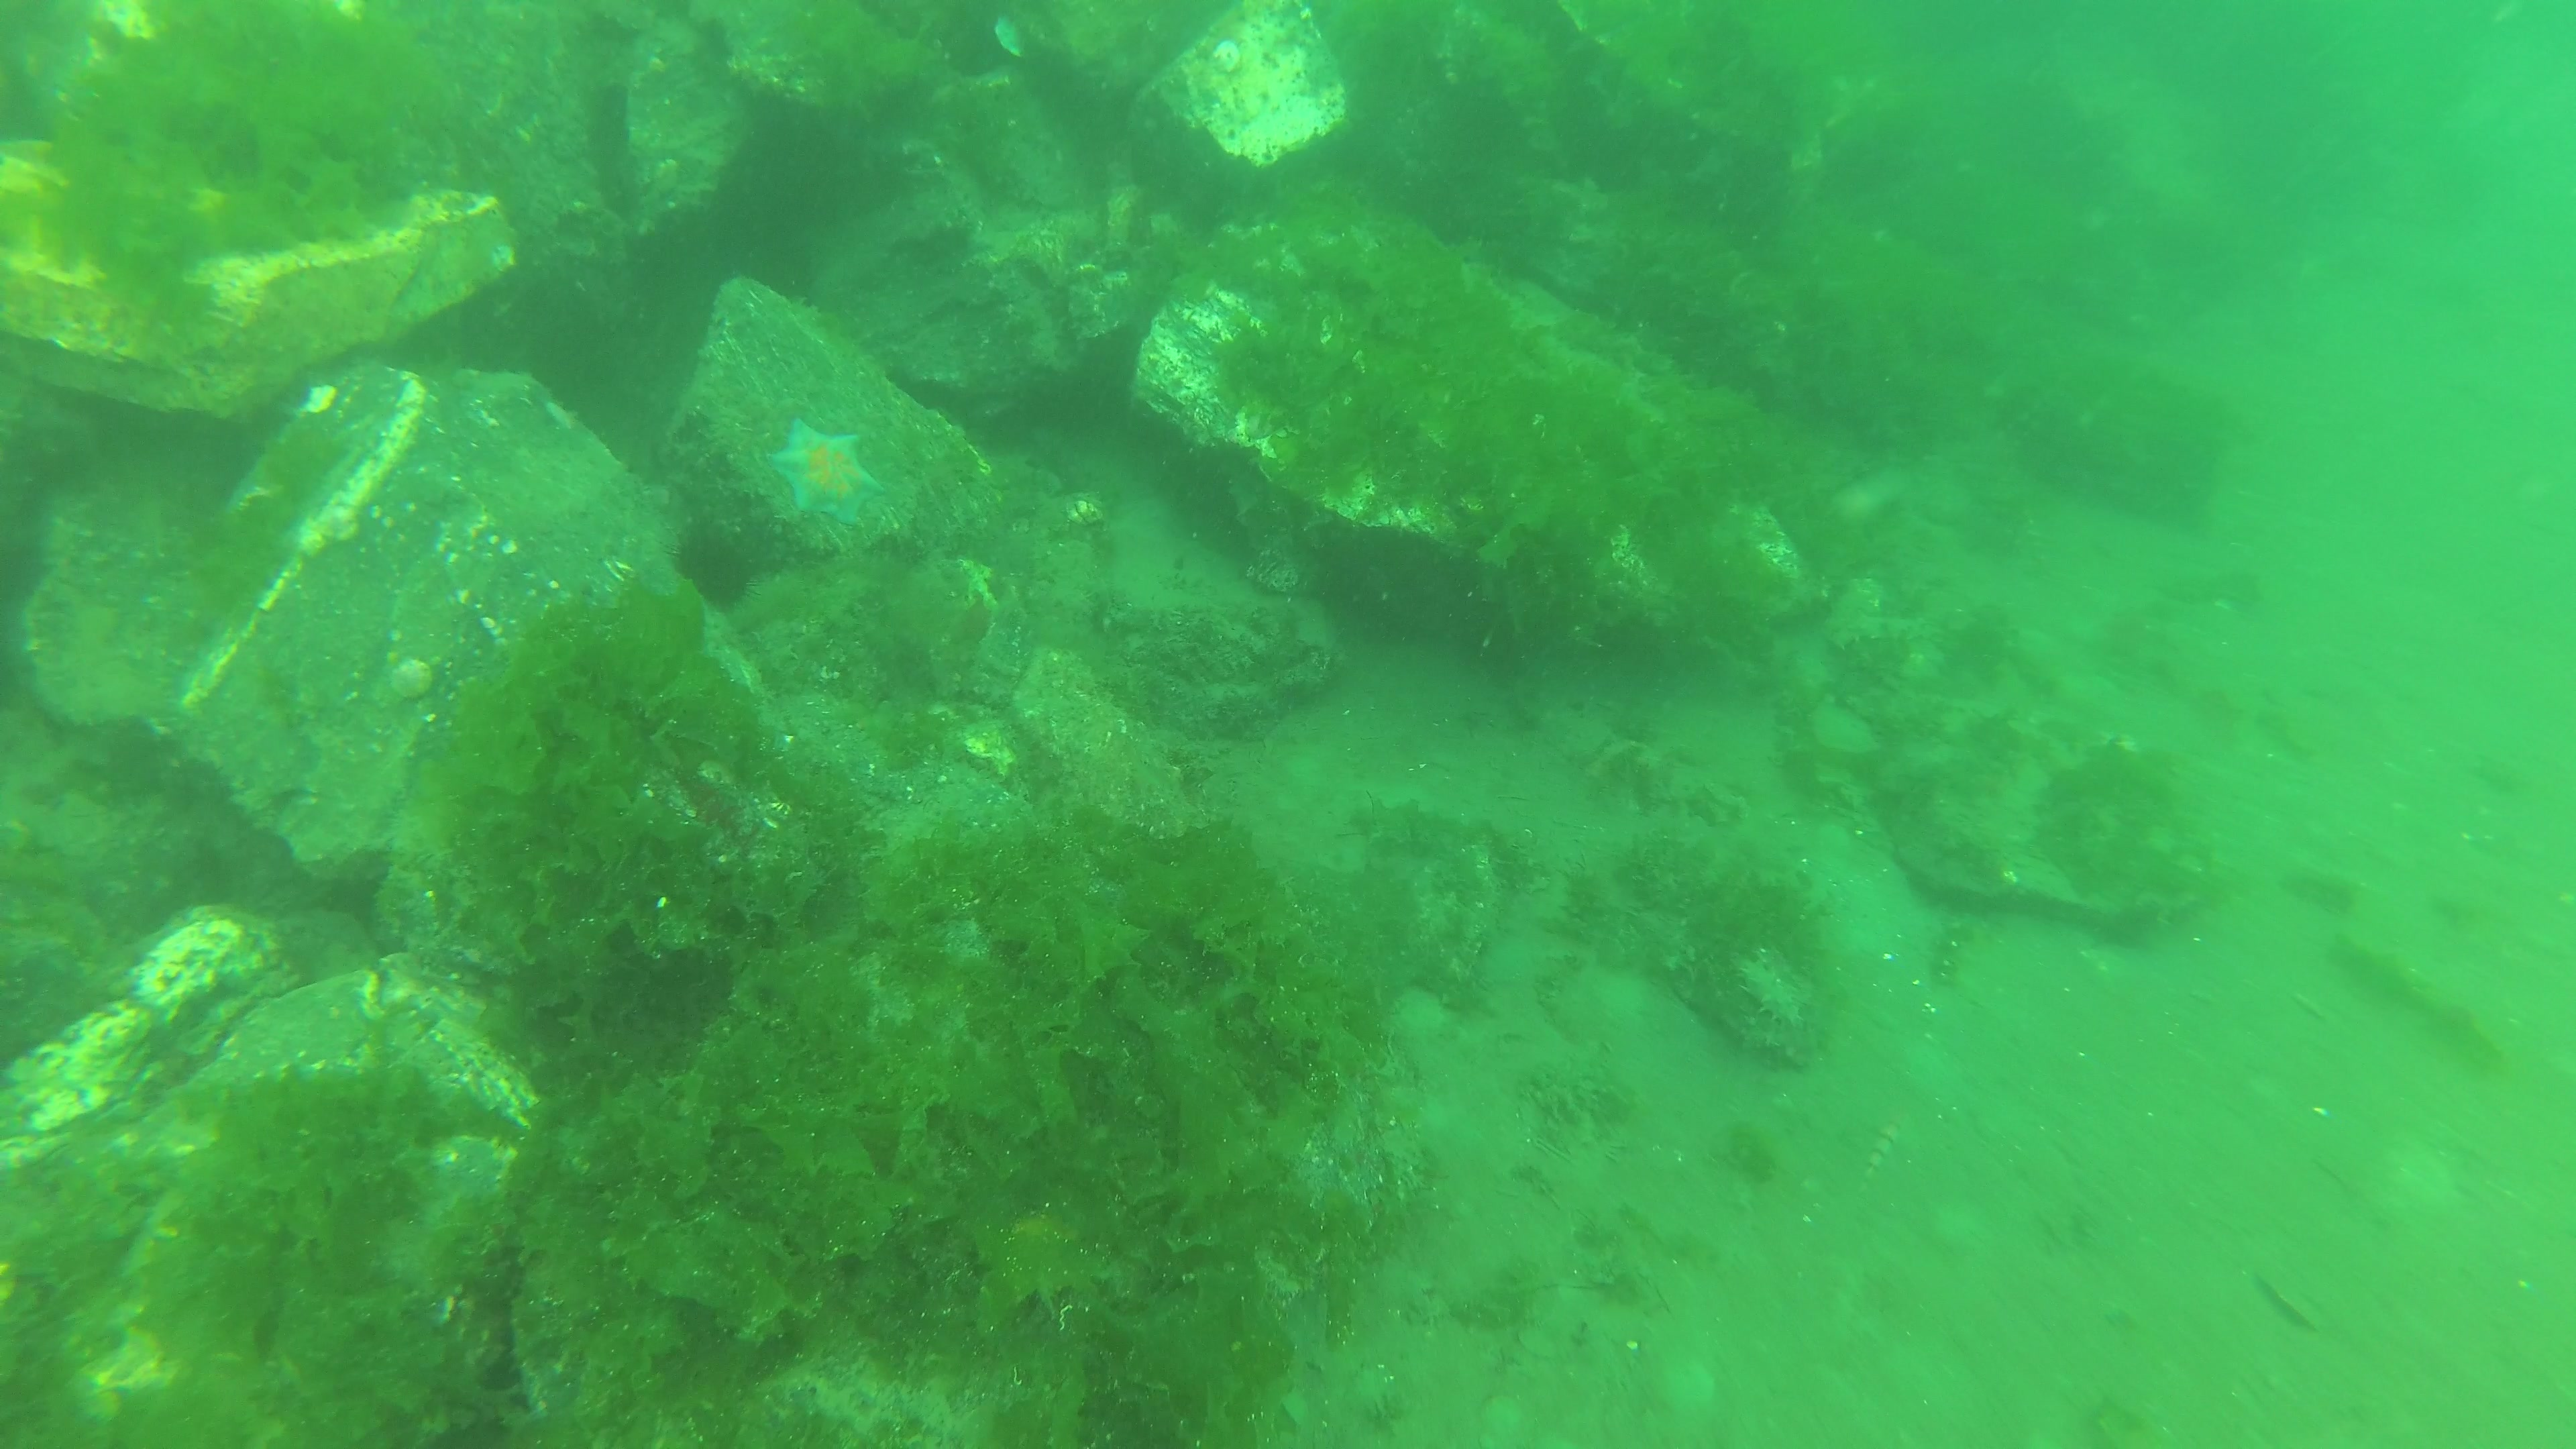echinus: (667, 524, 761, 616)
holothurian: (1730, 950, 1812, 1037), (1829, 610, 1948, 653)
starfish: (759, 410, 892, 533)
